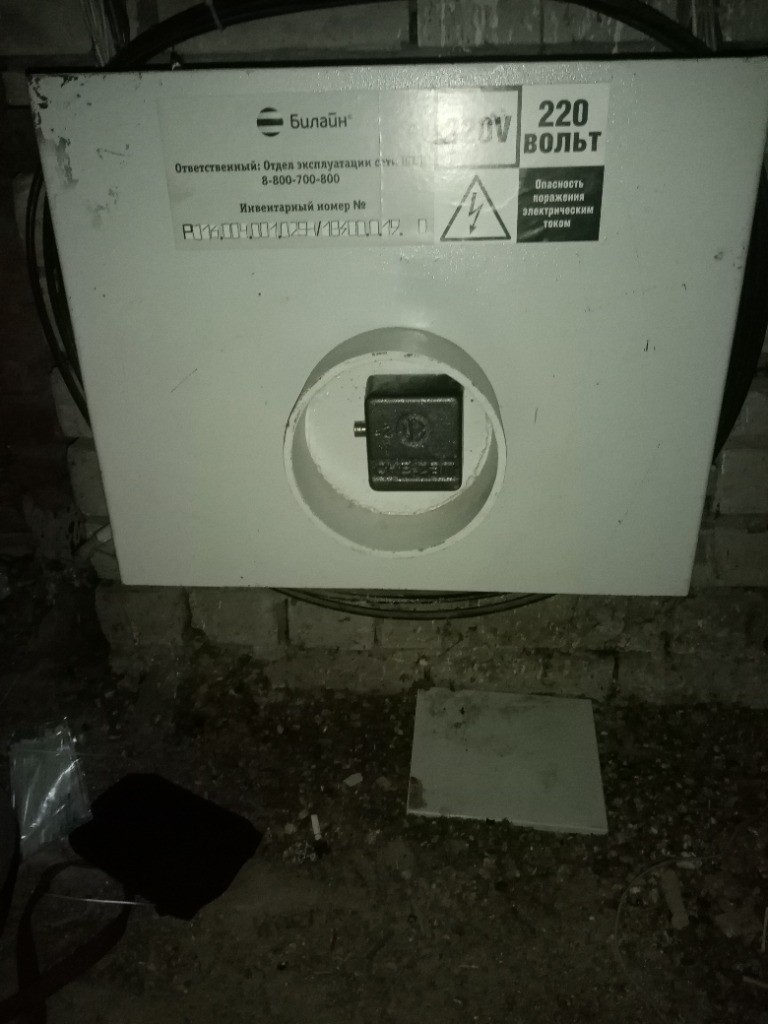shta-3: (19, 55, 764, 602)
